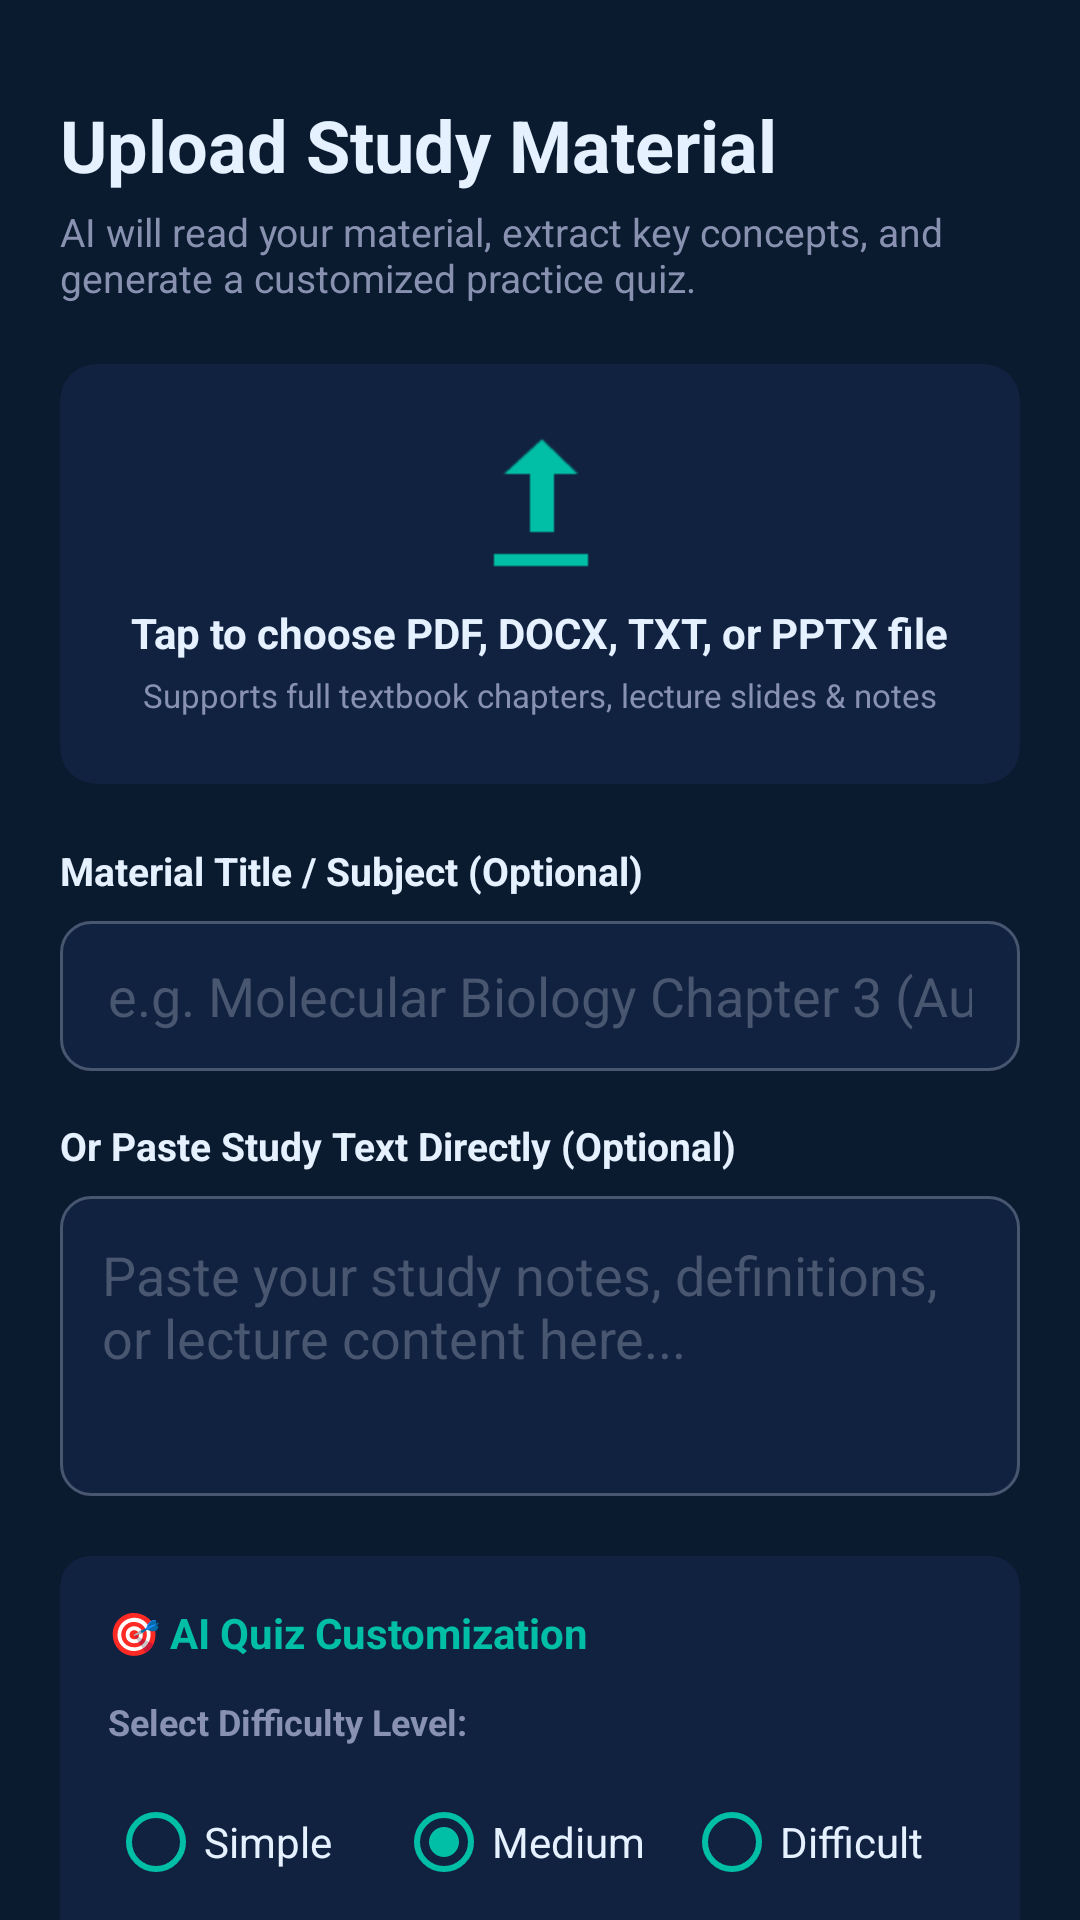

Where to tap for icons on this 1080 × 1920 app screen, as (x=x, y=y):
upload: (x=541, y=503)
